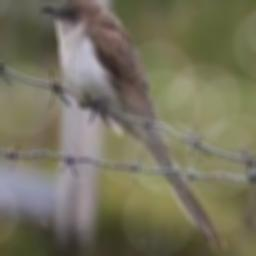Cuckoo: (40, 0, 227, 249)
